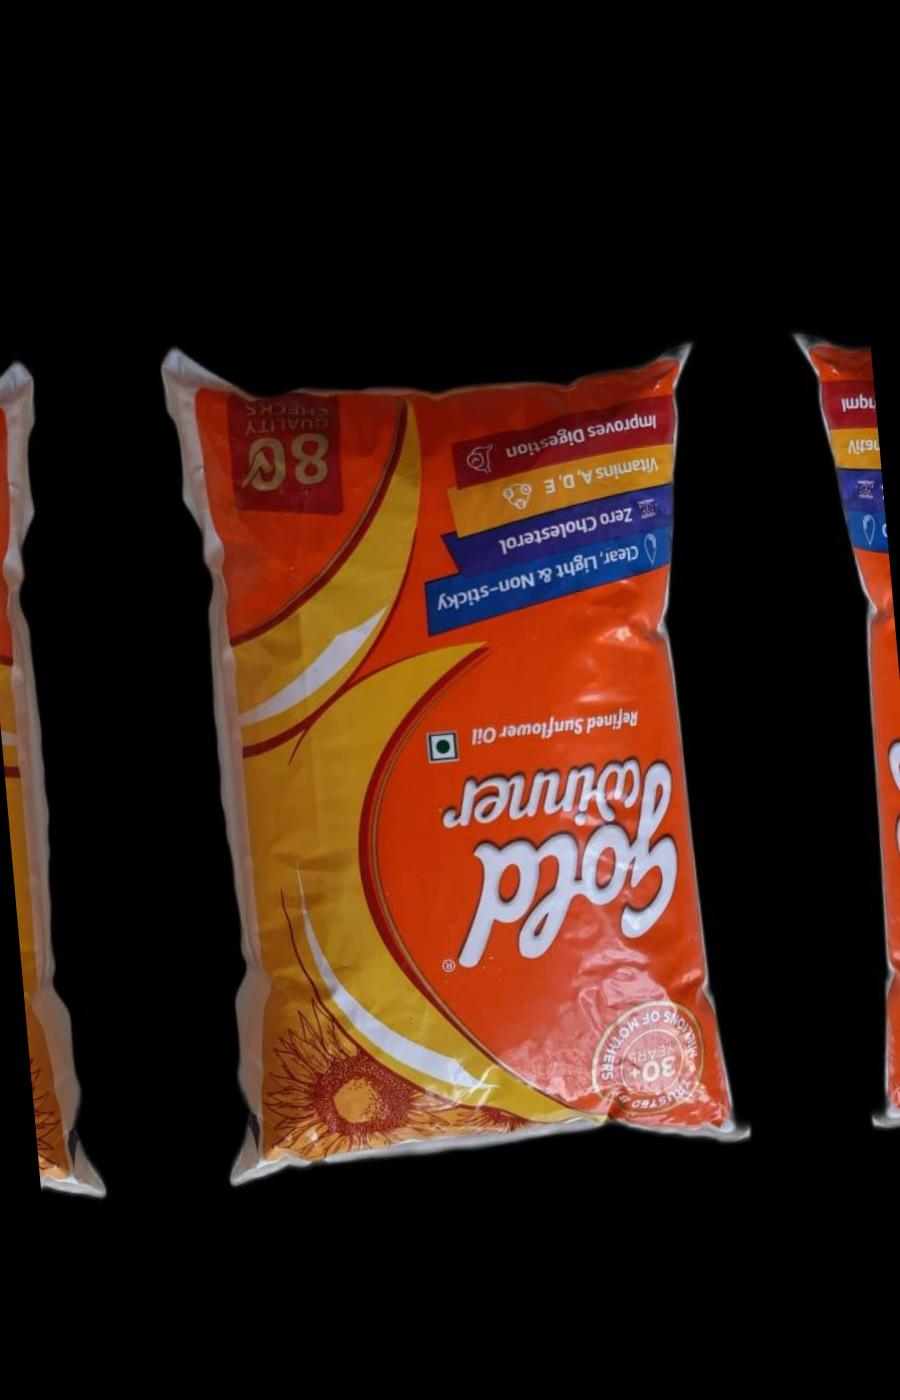Gold Oil: (139, 301, 768, 1201)
